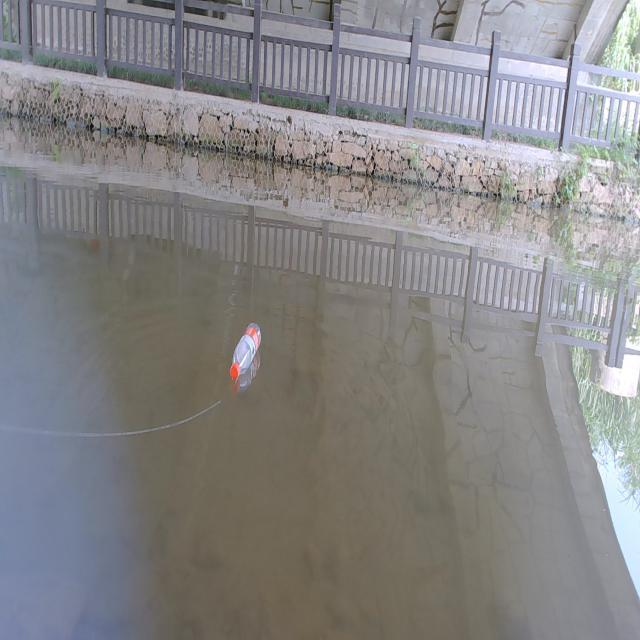garbage: (229, 320, 261, 380)
